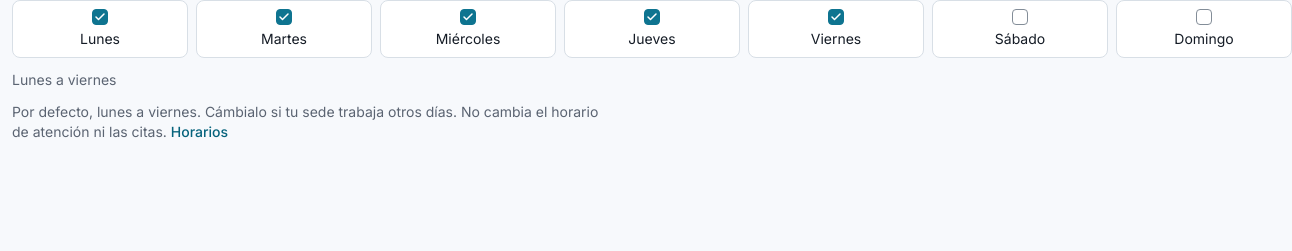
Test: WorkingWeekdaysForm (DX-316, spec §7.2) › «Guardado» goes into a live region that was already mounted
The width and height of the screenshot is (1292, 251).
Click the checkbox labelled "Sábado" at coordinates (1020, 17), box 1012,9 -> 1028,25
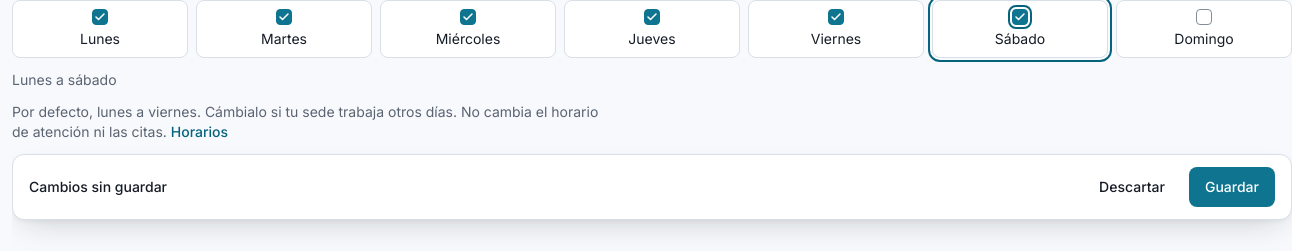
Click the button with aria-label "Guardar días hábiles" at coordinates (1232, 187), box 1189,167 -> 1275,207
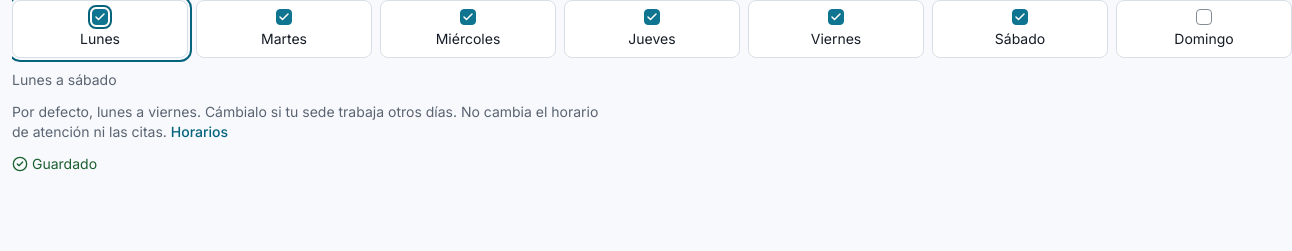
Result: the message reads "Guardado" at 32,155 -> 97,172
